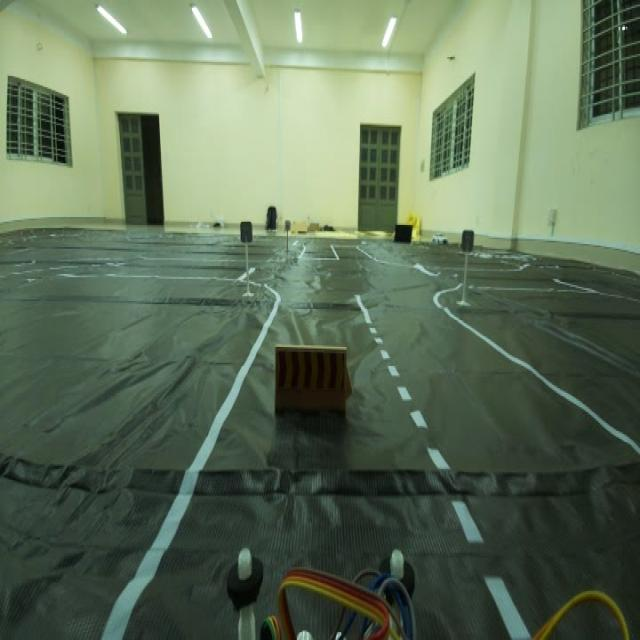roadblock: (270, 333, 358, 442)
